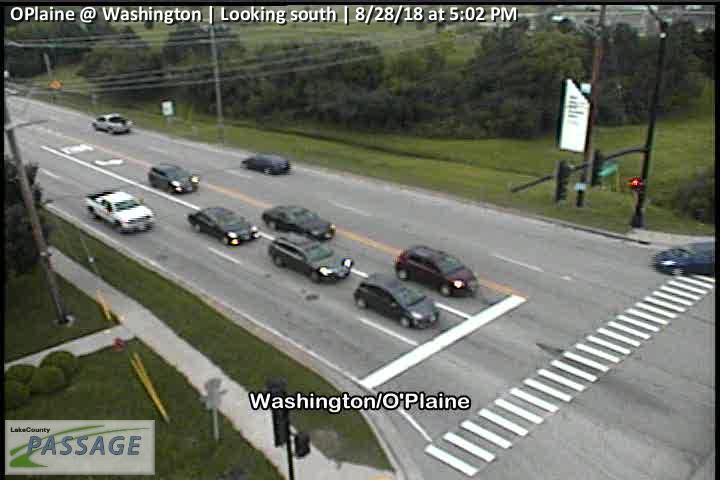SUV: (354, 273, 439, 329), (269, 231, 354, 282), (395, 246, 478, 297), (149, 163, 200, 195), (92, 113, 129, 134)
Sedan: (188, 207, 261, 245), (262, 206, 336, 239), (653, 241, 712, 276), (242, 154, 290, 175)
Truck: (86, 190, 154, 233)
